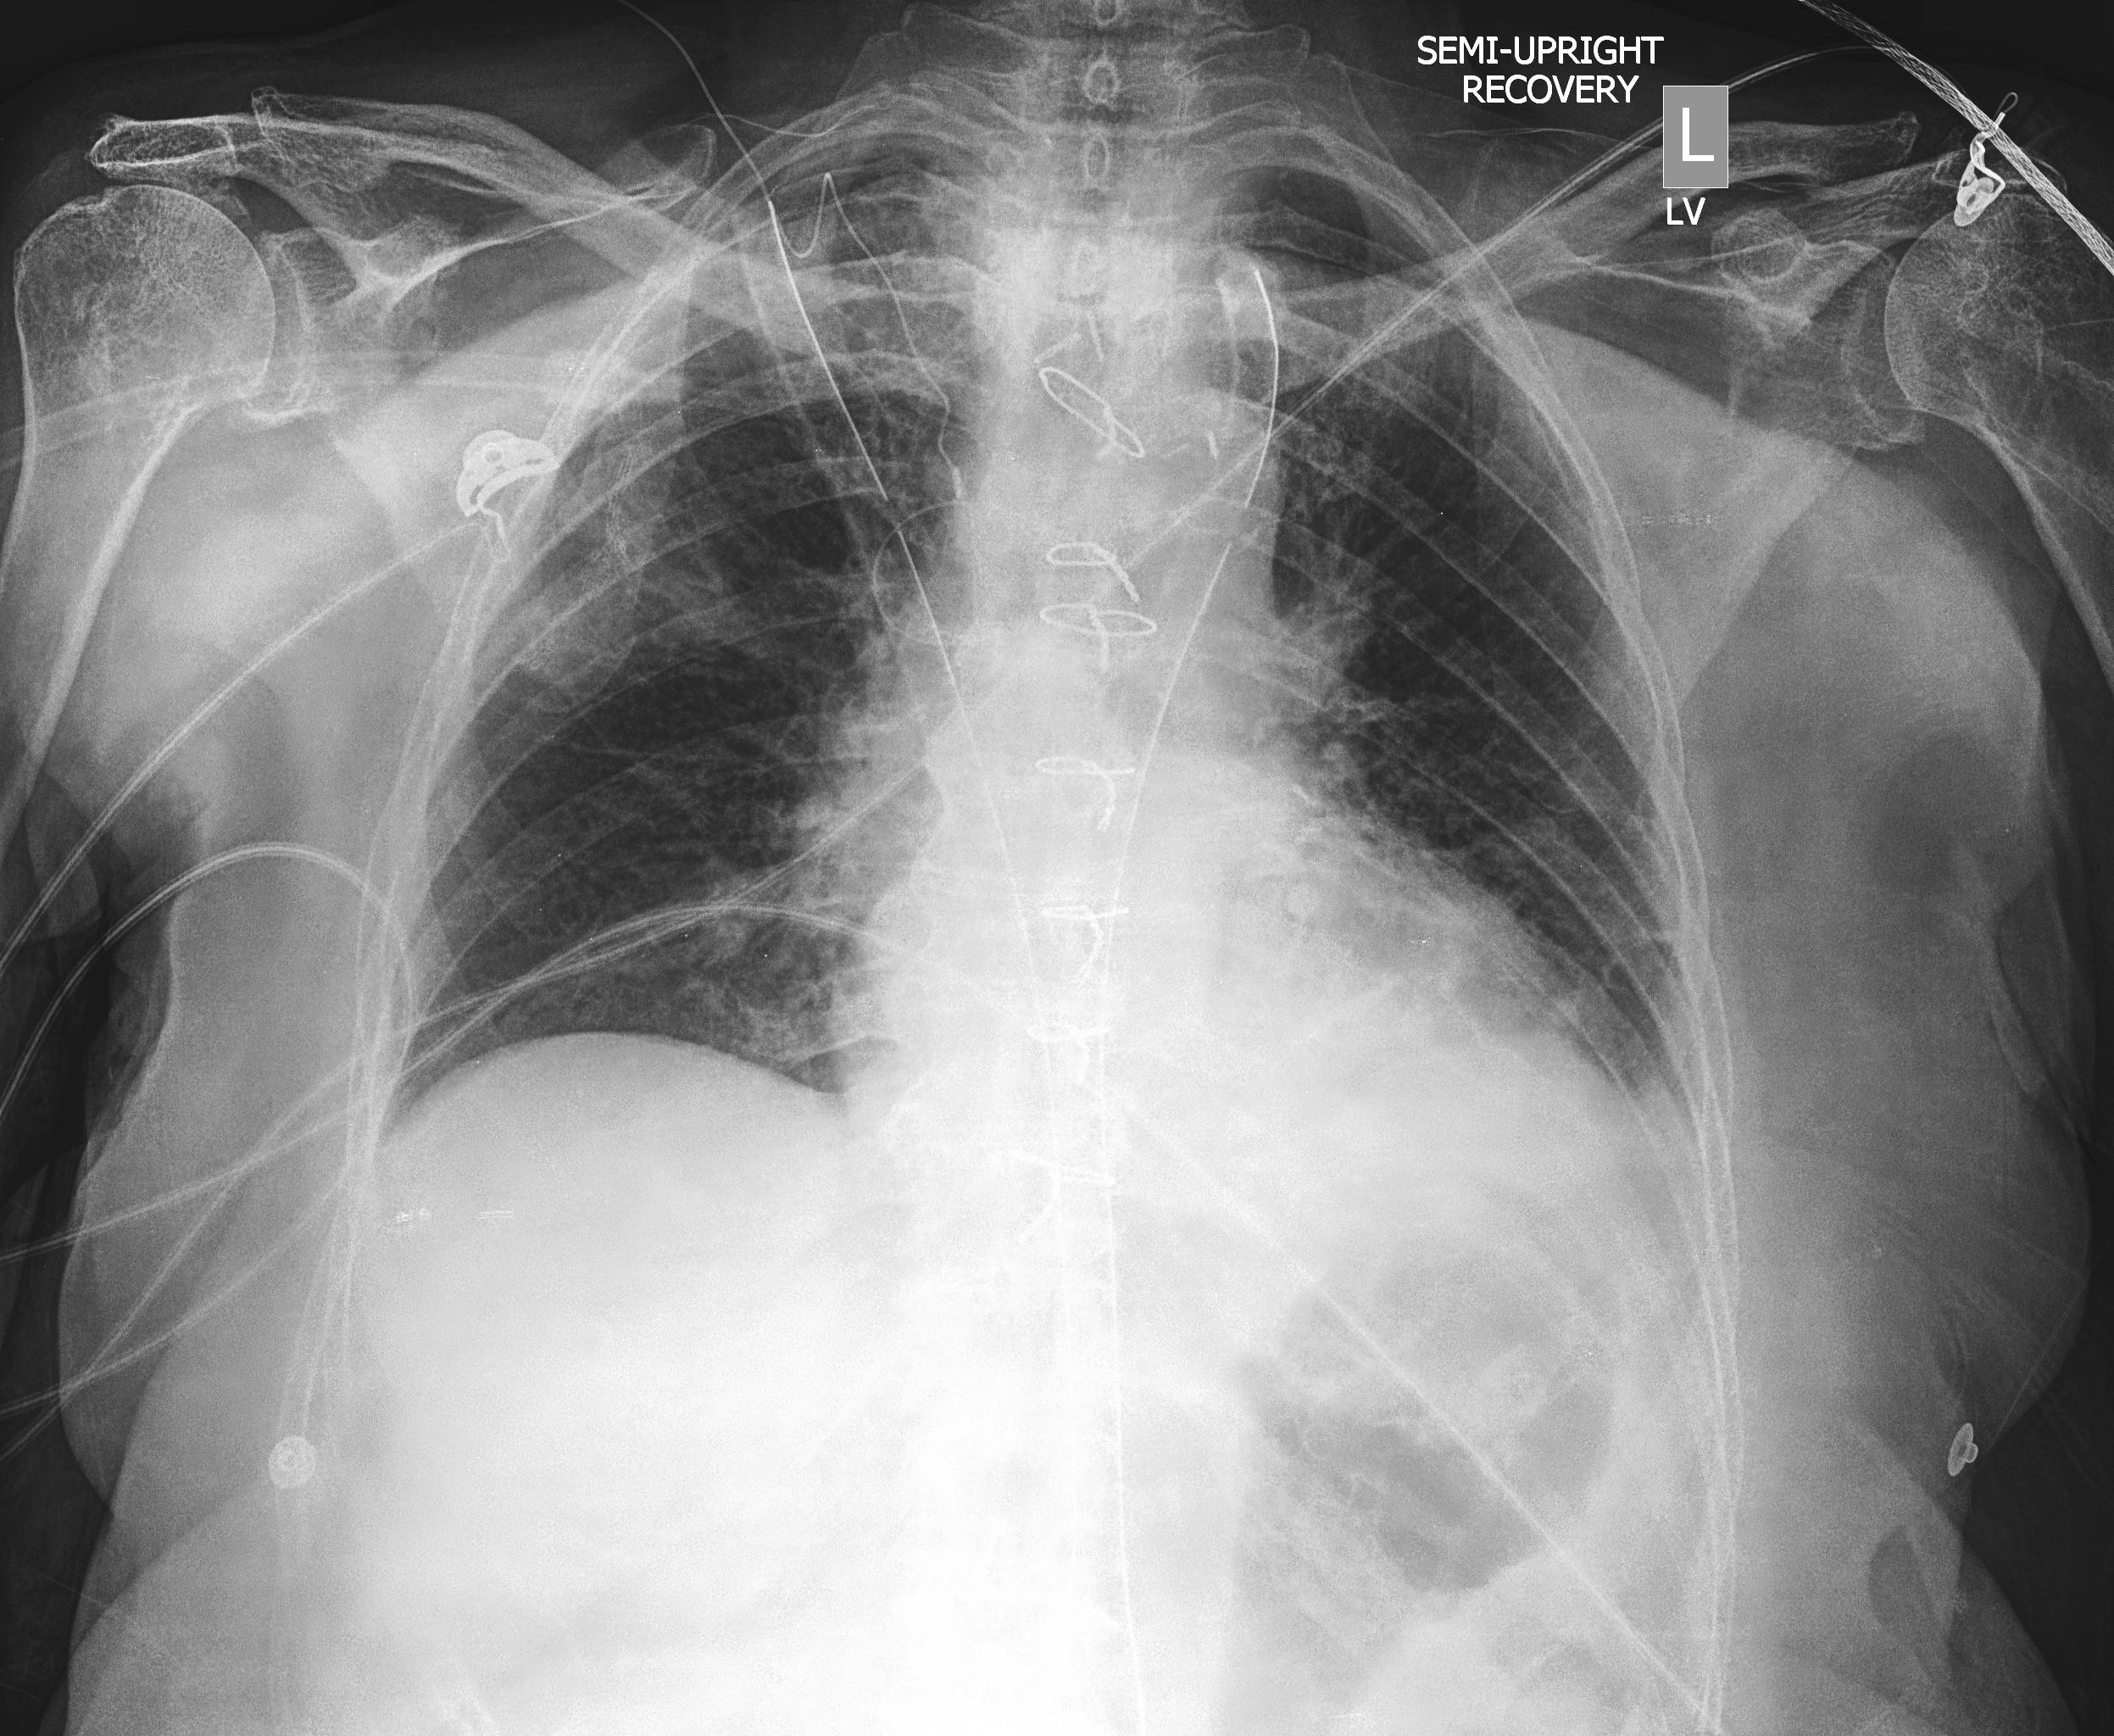Pleural Effusion: (1429, 1011, 1779, 1450)
